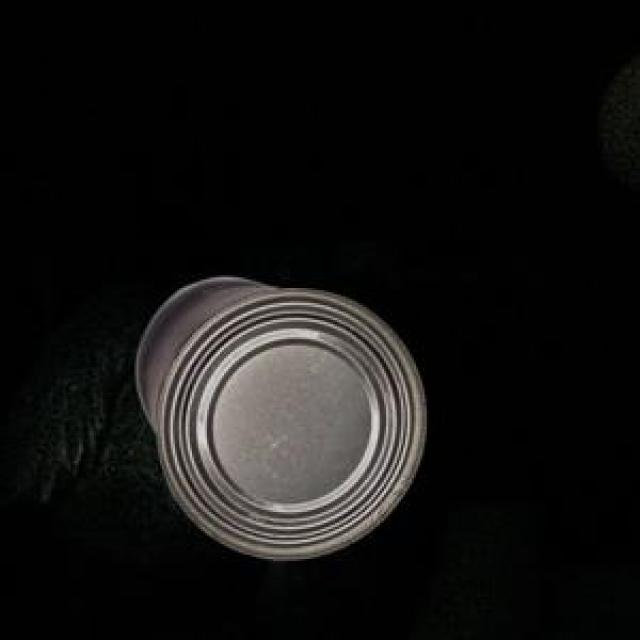logam: (133, 274, 423, 556)
